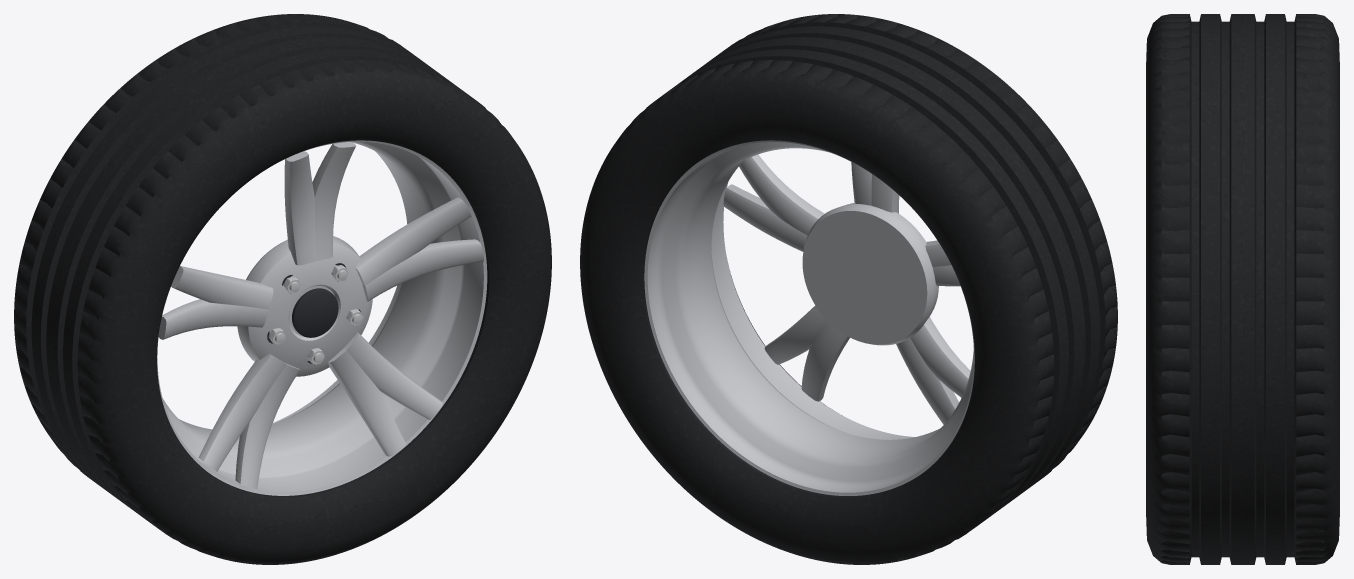
Rendered from wheel_assembly.glb.
The picture shows the model from 3 angles, left to right: view 1: azimuth 30°, elevation 25°; view 2: azimuth 150°, elevation 25°; view 3: azimuth 270°, elevation 25°; orthographic projection. The views are drawn at different scales.
Parts seen in each view (by area): view 1: Tyre 225/40 R18, Hub and spokes, Alloy rim barrel, Centre cap and lug seats, Lug nuts; view 2: Tyre 225/40 R18, Alloy rim barrel, Hub and spokes; view 3: Tyre 225/40 R18.
Part boxes in pixels (<box>): Tyre 225/40 R18: <box>14,14,551,564</box>; Hub and spokes: <box>158,142,483,488</box>; Alloy rim barrel: <box>157,140,487,495</box>; Centre cap and lug seats: <box>267,263,360,363</box>; Lug nuts: <box>268,265,363,364</box>; Tyre 225/40 R18: <box>580,14,1117,564</box>; Alloy rim barrel: <box>644,140,974,495</box>; Hub and spokes: <box>723,154,970,424</box>; Tyre 225/40 R18: <box>1146,14,1339,564</box>.
Size of the model in its own units: 0.637 by 0.637 by 0.224.
4 materials, 4 textured.
